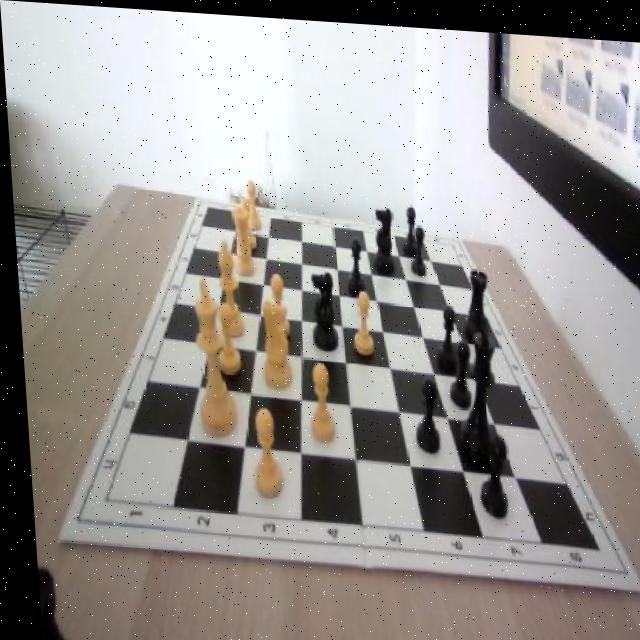black-bishop: (446, 316, 498, 463)
black-king: (304, 264, 337, 347), (368, 199, 393, 272)
black-knight: (471, 427, 504, 512), (408, 369, 438, 448), (441, 333, 468, 404), (430, 297, 455, 366), (342, 233, 364, 291), (406, 219, 424, 273), (399, 200, 417, 251)
black-queen: (457, 259, 486, 334)
black-rook: (212, 239, 243, 338)
white-bishop: (183, 273, 234, 435)
white-king: (248, 286, 293, 390)
white-knight: (242, 404, 279, 496), (299, 355, 335, 441), (207, 298, 239, 376), (259, 270, 287, 339), (347, 283, 372, 351), (240, 180, 261, 229), (234, 195, 254, 246)
white-queen: (227, 202, 254, 274)
